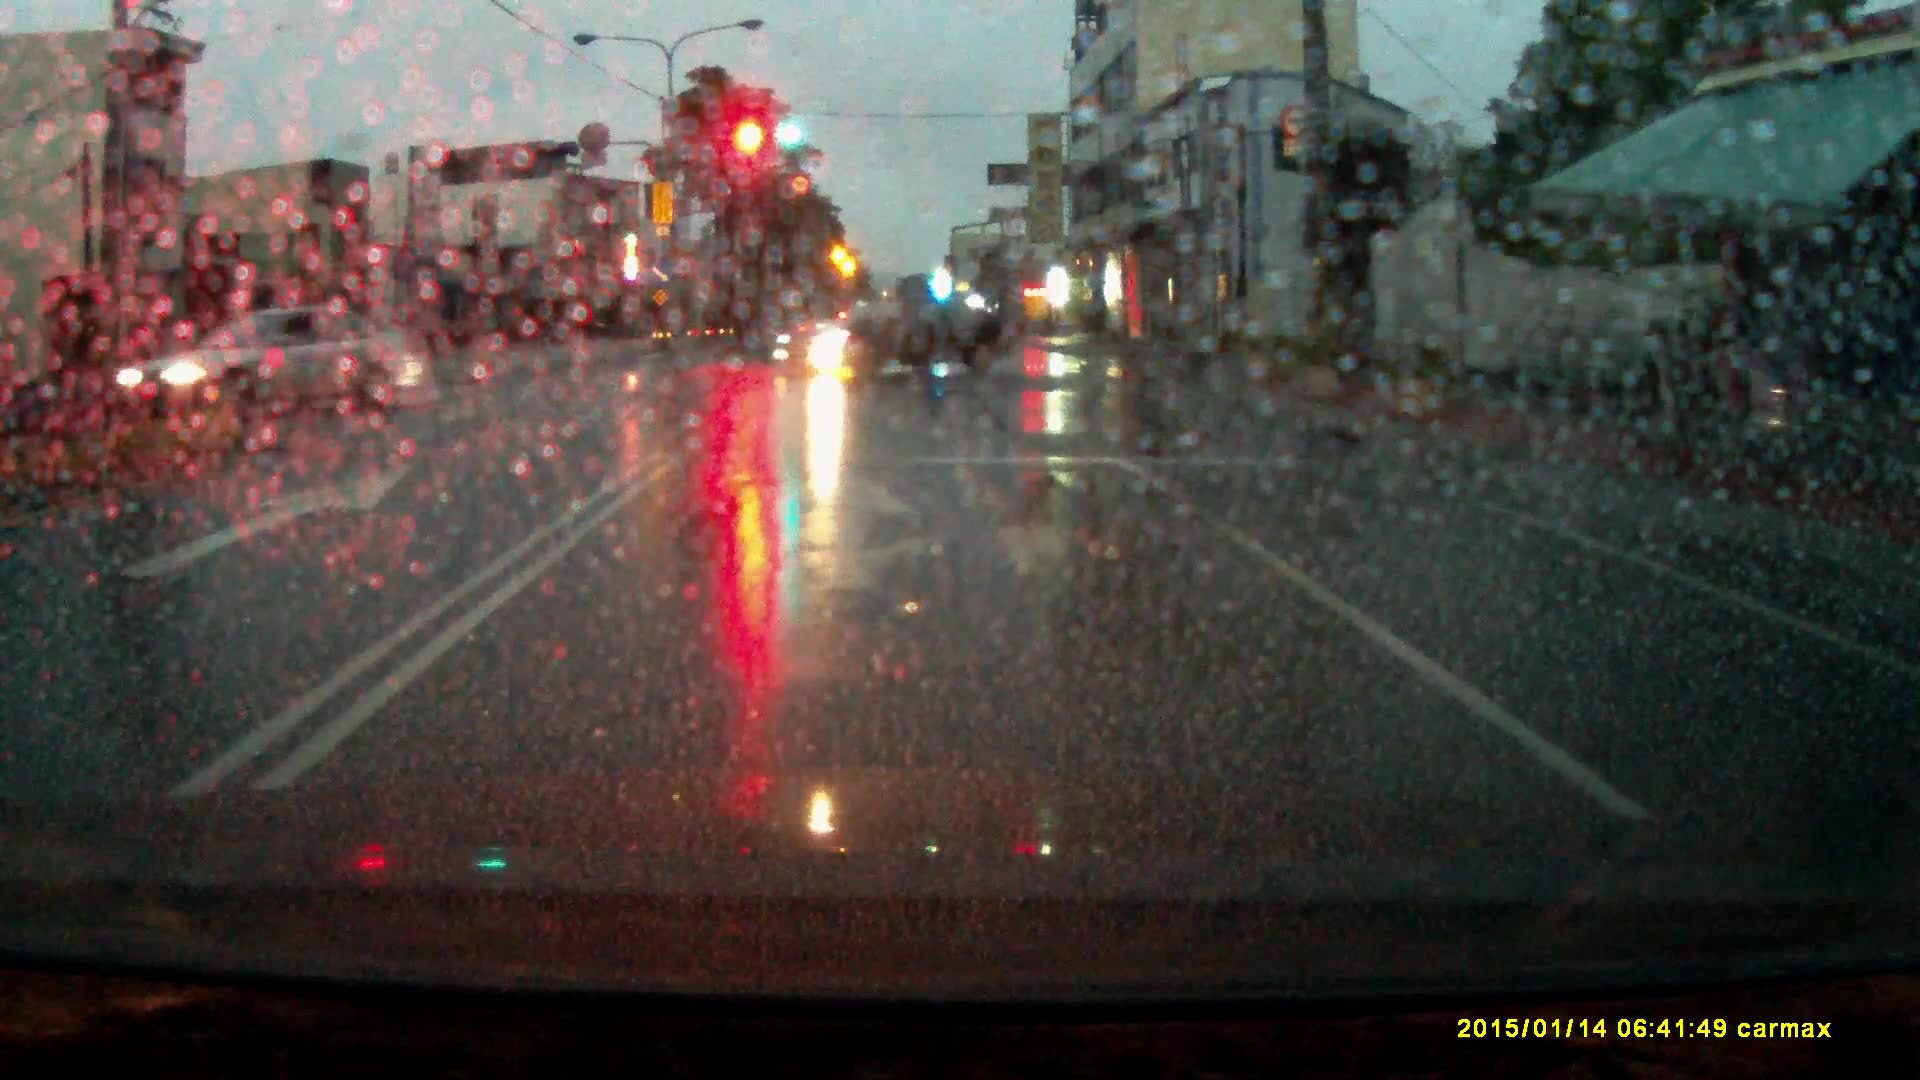vehicle: (96, 302, 418, 413), (775, 289, 1015, 381)
